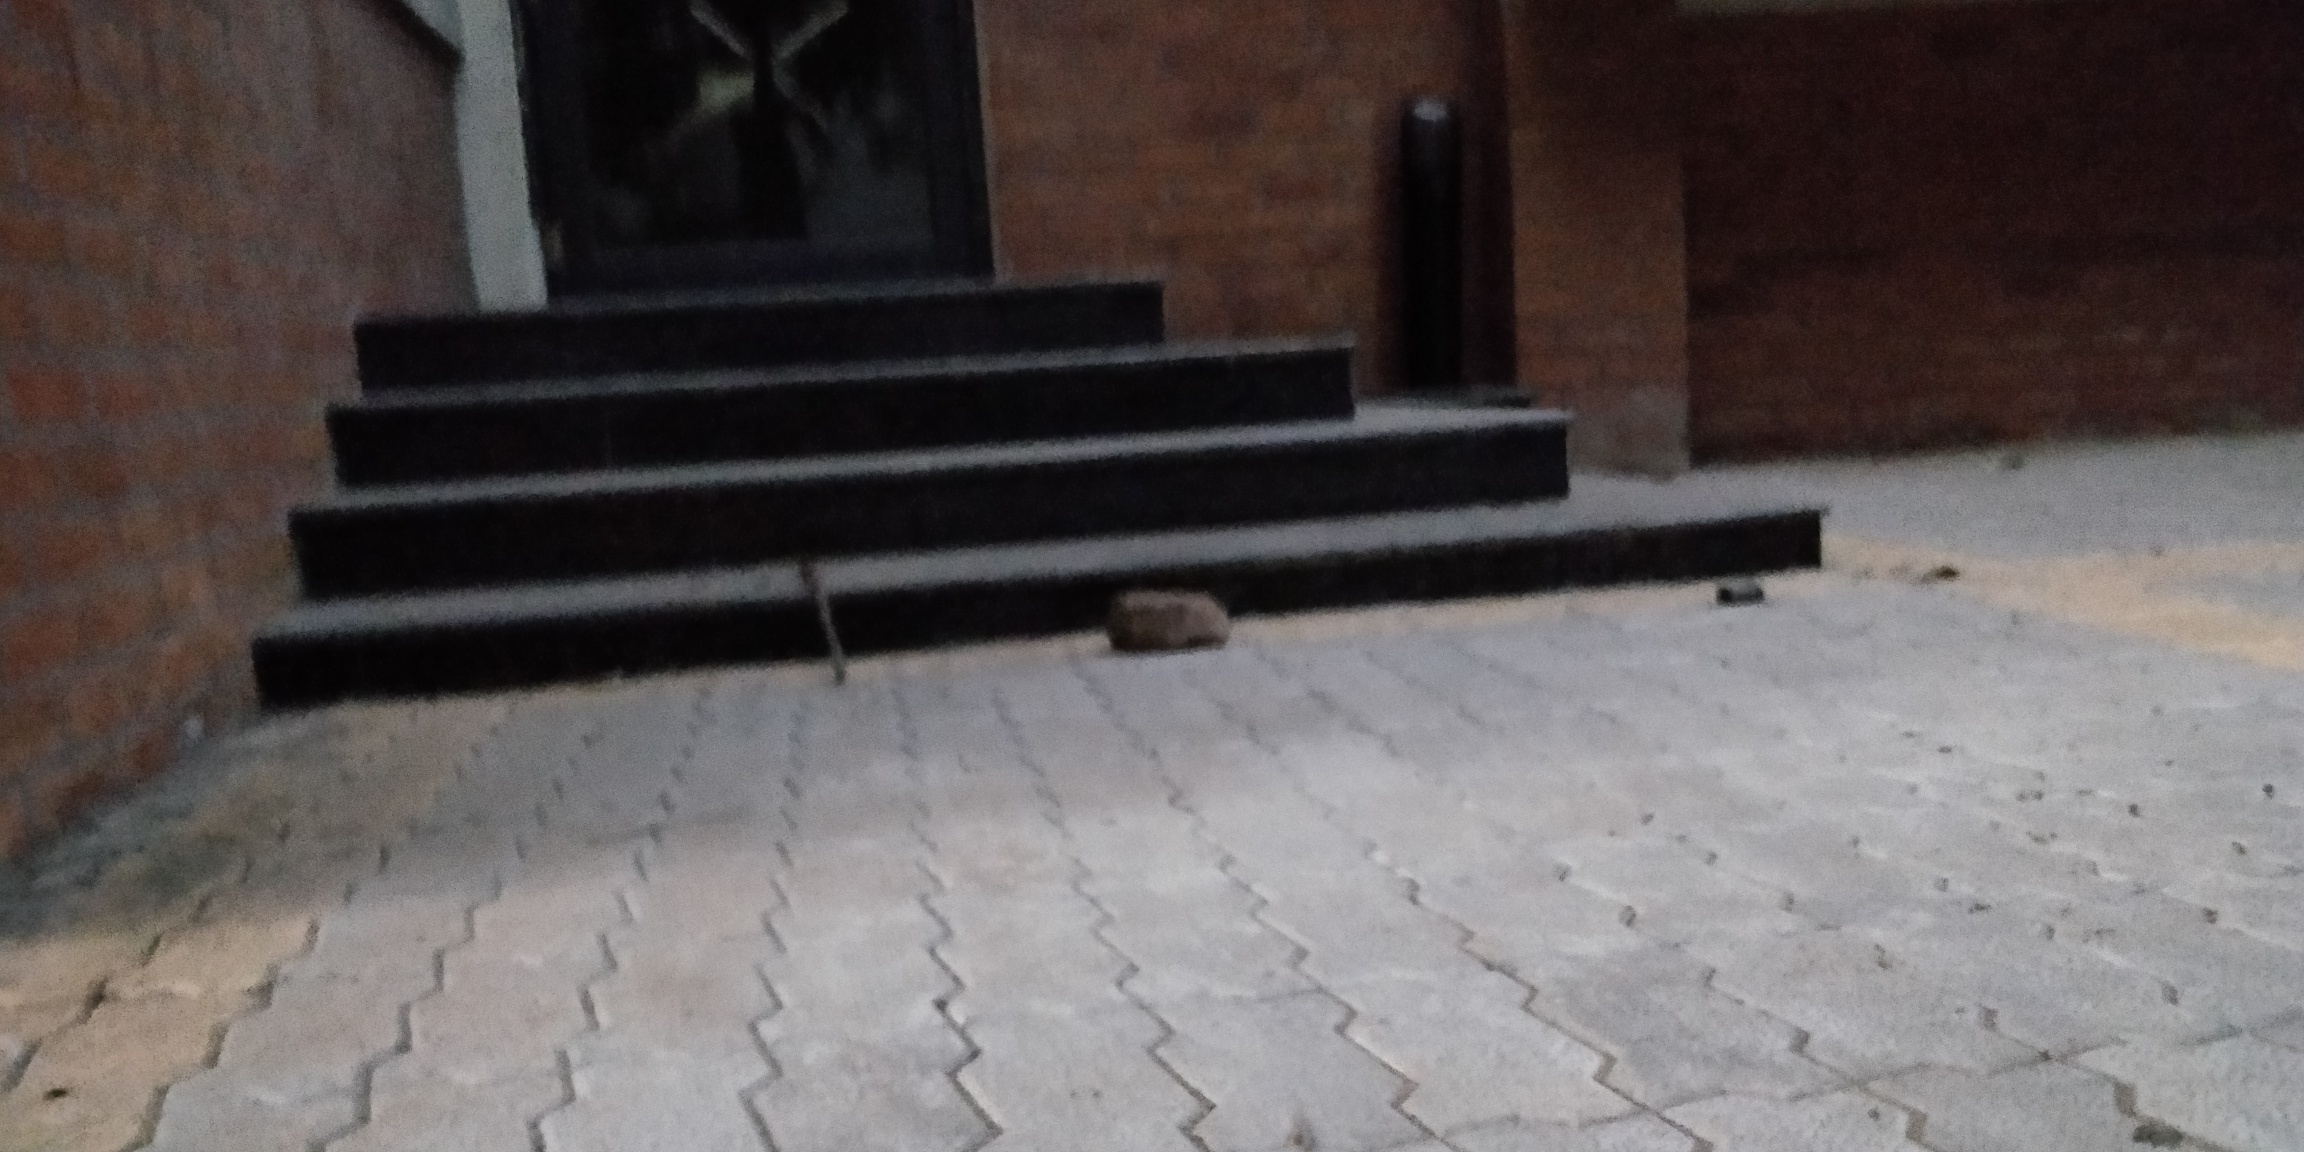stairs_up: (263, 260, 1774, 604)
